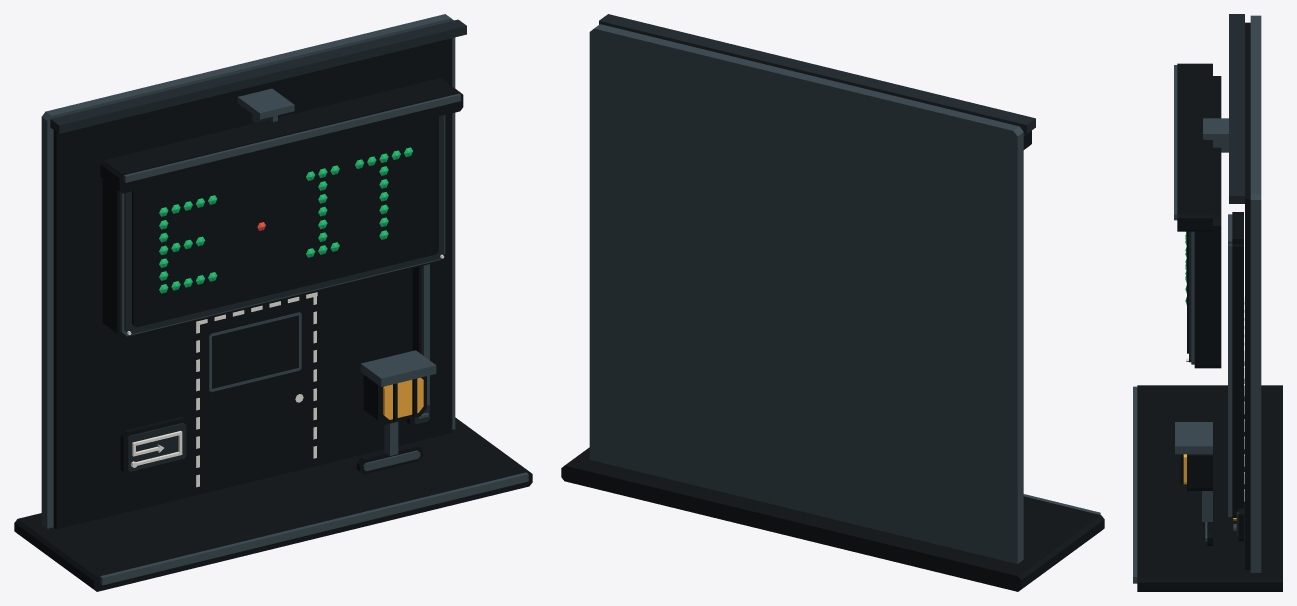
The picture shows the model from 3 angles, left to right: view 1: azimuth 30°, elevation 25°; view 2: azimuth 150°, elevation 25°; view 3: azimuth 270°, elevation 25°; orthographic projection. The views are drawn at different scales.
Visible parts, largest first — view 1: Exit Liquidity sign; view 2: Exit Liquidity sign; view 3: Exit Liquidity sign.
Part boxes in pixels (x1,y1,x2,y2): Exit Liquidity sign: (14, 14, 532, 591); Exit Liquidity sign: (561, 14, 1104, 591); Exit Liquidity sign: (1133, 14, 1282, 591).
Size of the model in its own units: 1.08 by 1 by 0.3475.
